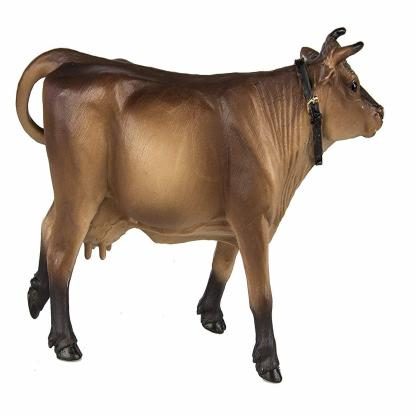cow: (17, 26, 382, 385)
